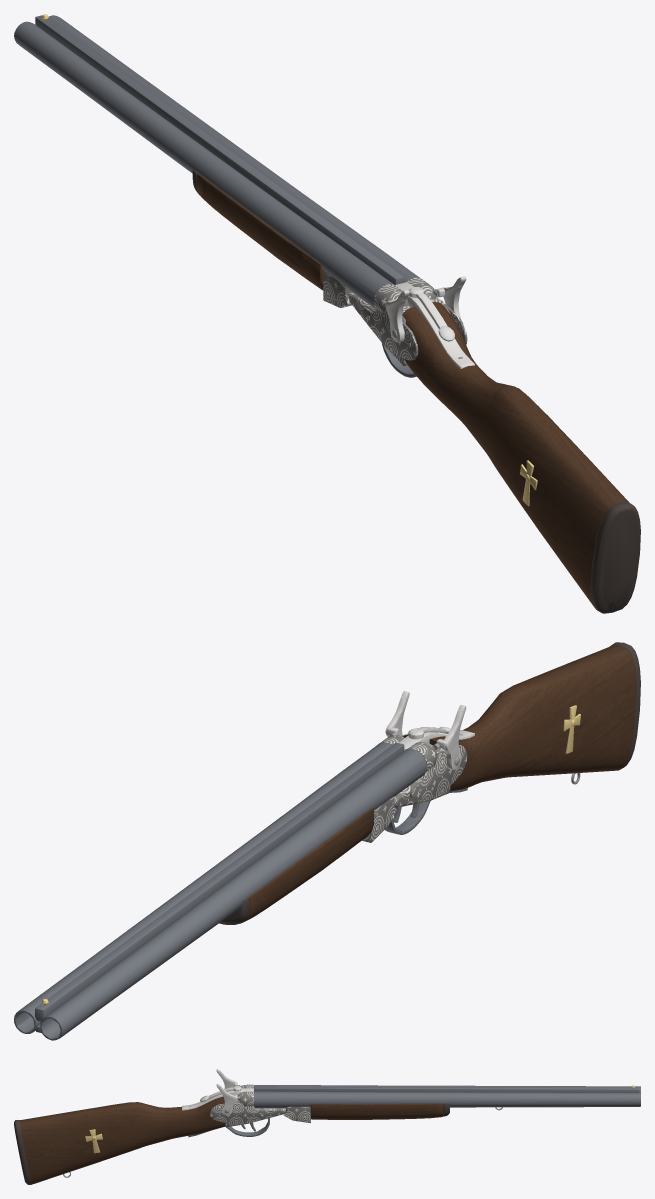
The model's file is doplete.glb.
3 views of the same model, one above another, from view 1: azimuth 30°, elevation 25°; view 2: azimuth 150°, elevation 25°; view 3: azimuth 270°, elevation 25° (orthographic). The views are drawn at different scales.
Visible parts, largest first — view 1: body, barrels, far; view 2: barrels, far, body; view 3: body, barrels, far.
Boxes of the visible parts, <box> form: body: <box>348,276,640,613</box>; barrels: <box>14,14,419,308</box>; far: <box>14,14,640,613</box>; barrels: <box>14,742,426,1040</box>; far: <box>14,642,640,1040</box>; body: <box>378,642,640,834</box>; body: <box>14,1069,285,1184</box>; barrels: <box>254,1085,640,1122</box>; far: <box>14,1070,640,1184</box>.
Size of the model in its own units: 0.0619 by 0.1815 by 0.9723.
9 materials, 3 textured.
